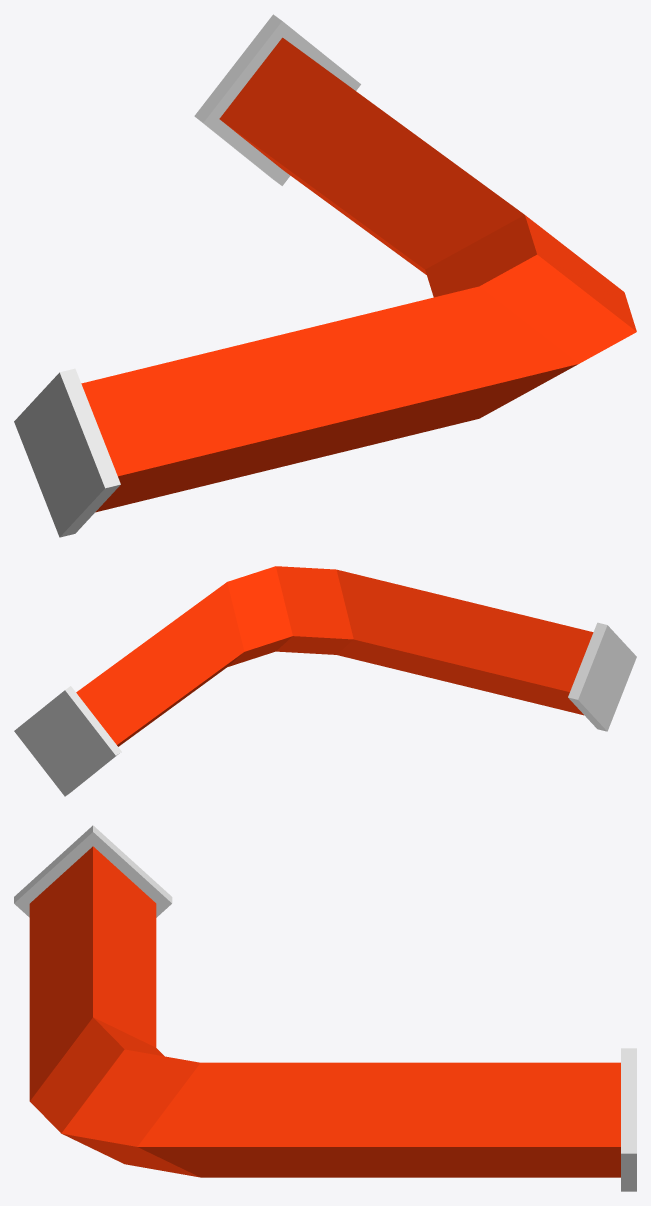
File: Small_Pipe_RightAngle.fbx
3 views of the same model, one above another, from view 1: azimuth 30°, elevation 25°; view 2: azimuth 150°, elevation 25°; view 3: azimuth 270°, elevation 25° (orthographic). The views are drawn at different scales.
Visible parts, largest first — view 1: Cylinder.002; view 2: Cylinder.002; view 3: Cylinder.002.
Boxes of the visible parts, bbox=[...] form: Cylinder.002: bbox=[14, 14, 636, 537]; Cylinder.002: bbox=[14, 566, 636, 796]; Cylinder.002: bbox=[14, 825, 636, 1191].
Bounding box in the file's own units: 57.48 × 14.98 × 58.98.
